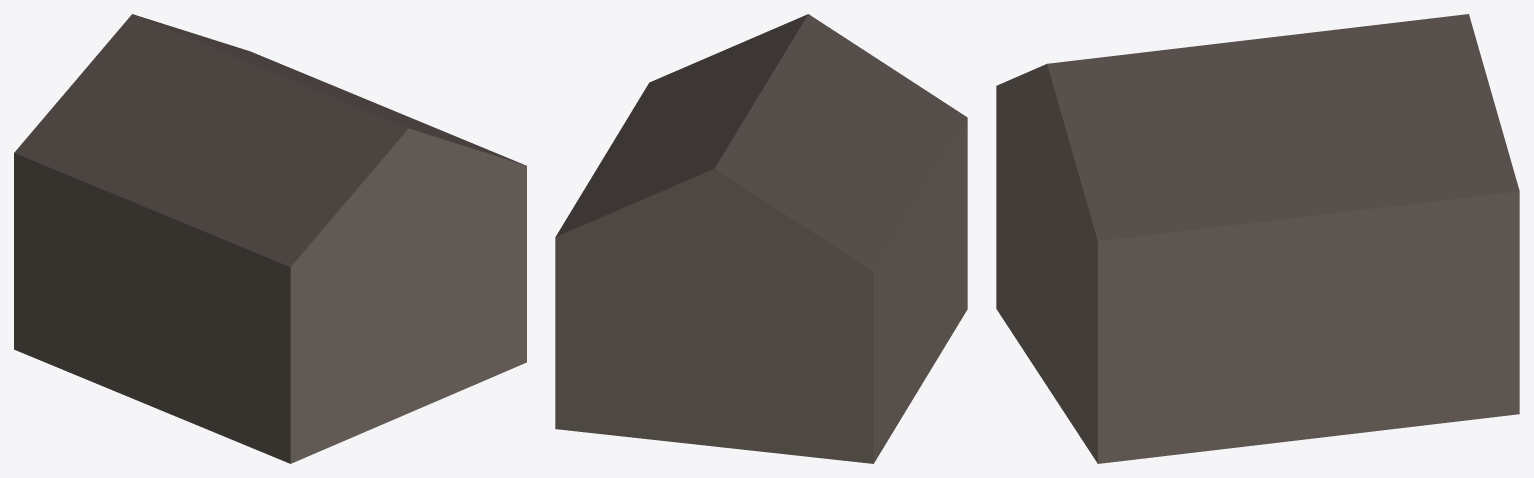
3 views of the same model, side by side, from view 1: azimuth 30°, elevation 25°; view 2: azimuth 150°, elevation 25°; view 3: azimuth 270°, elevation 25° (orthographic). The views are drawn at different scales.
Visible parts, largest first — view 1: HP-w1200785659; view 2: HP-w1200785659; view 3: HP-w1200785659.
Boxes of the visible parts, box(x1,y1,x2,y2) form: HP-w1200785659: box(14, 14, 526, 463); HP-w1200785659: box(555, 14, 967, 463); HP-w1200785659: box(996, 14, 1519, 463).
Size of the model in its own units: 11.85 by 8.69 by 12.78.
